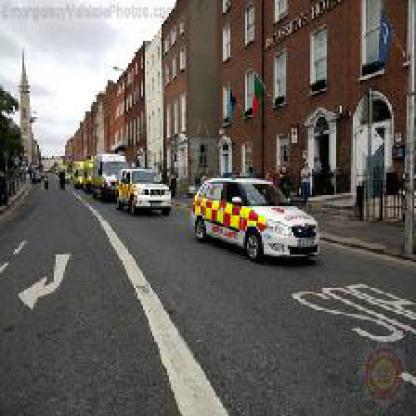emergency: (190, 176, 339, 271), (113, 165, 180, 212)
